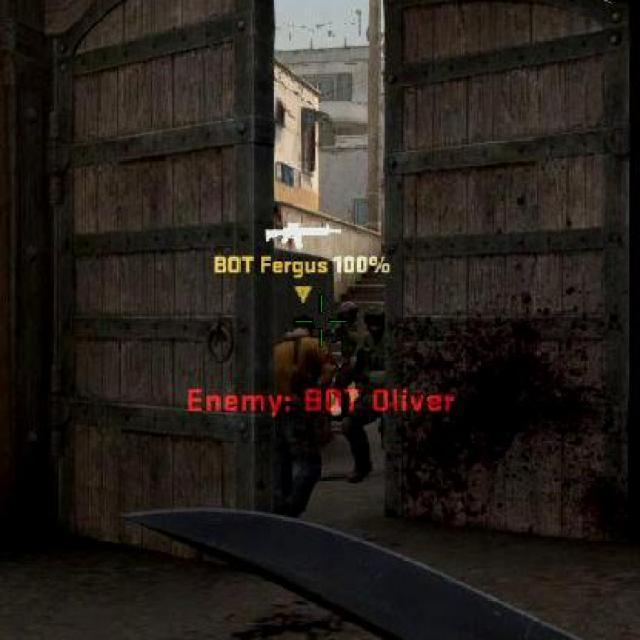CT-Body: (336, 303, 358, 329), (364, 310, 384, 338)
CT-Head: (350, 308, 384, 484), (332, 300, 363, 411)
